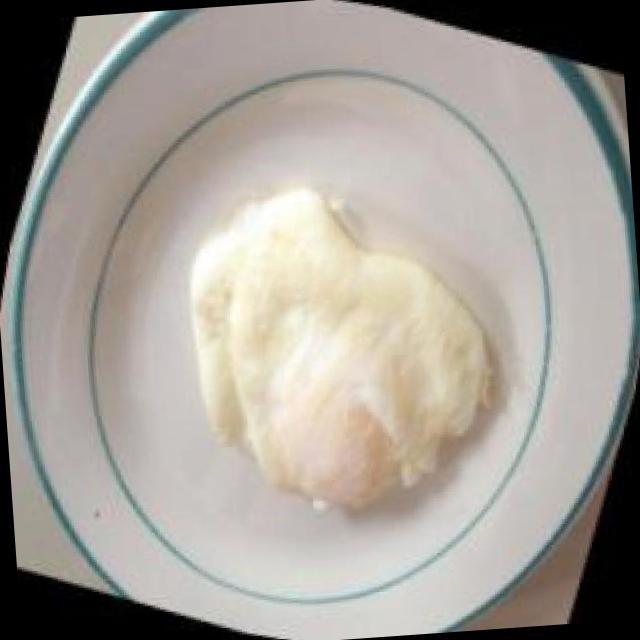fried_eggs: (108, 125, 556, 568)
